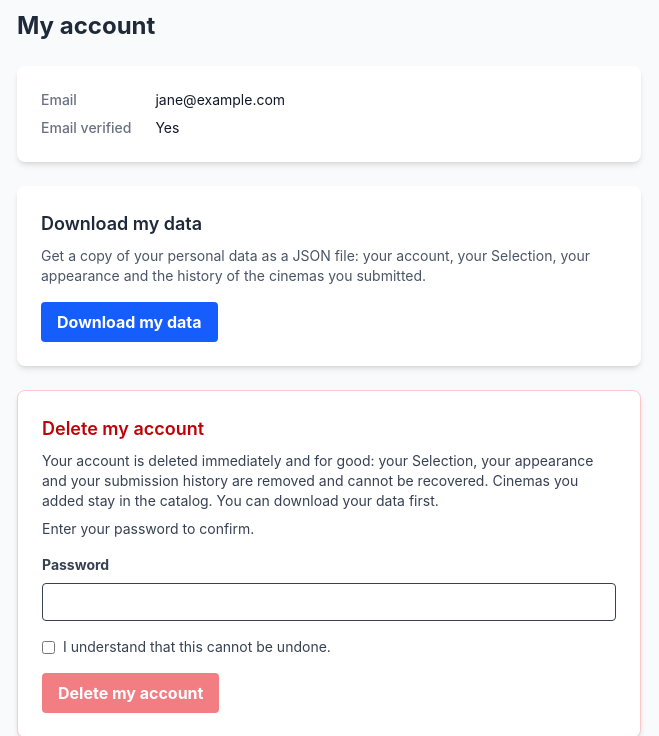
AccountPage › shows the server error on a wrong password and stays signed in
In the password field labelled "Password": (329, 602) x1=42 y1=583 x2=616 y2=621, type "wrong"
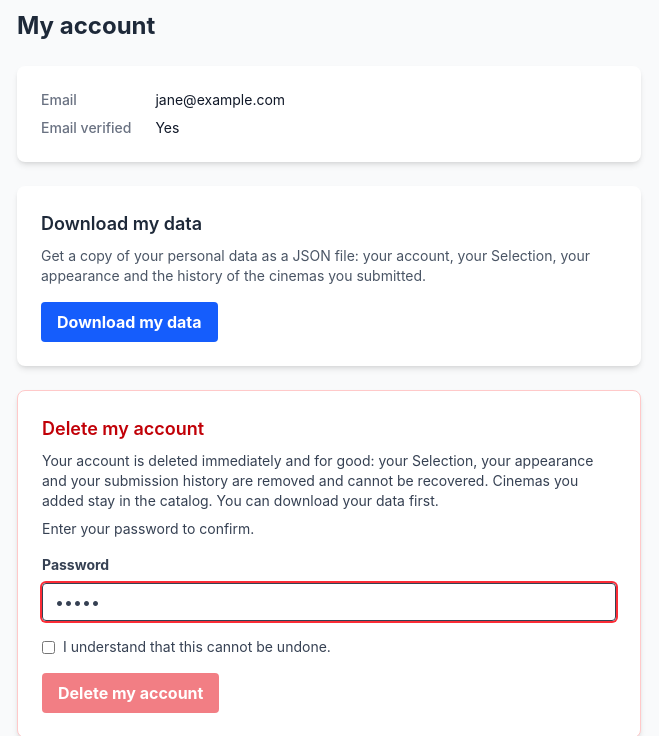
Click the checkbox with test id "delete-account-confirm": (48, 648) x1=42 y1=641 x2=55 y2=654
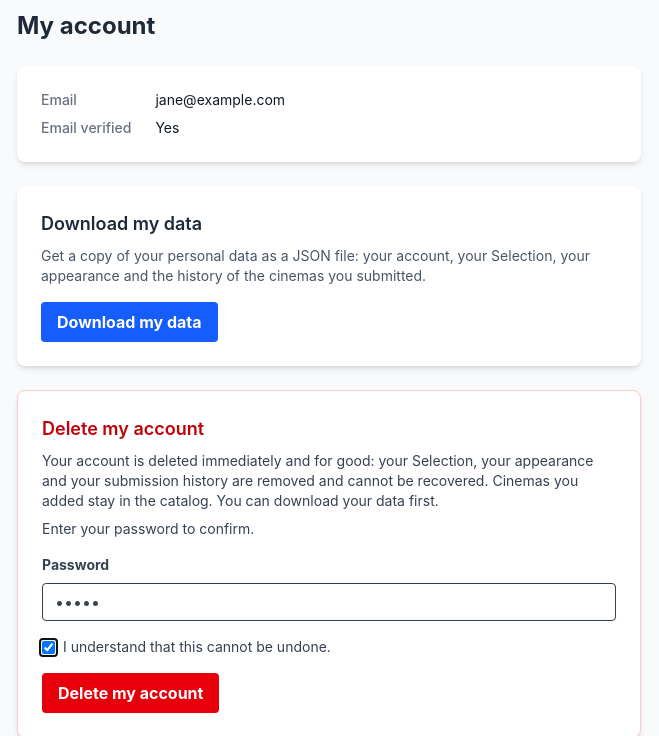
Click the button with test id "delete-account-submit": (131, 693) x1=42 y1=673 x2=219 y2=713
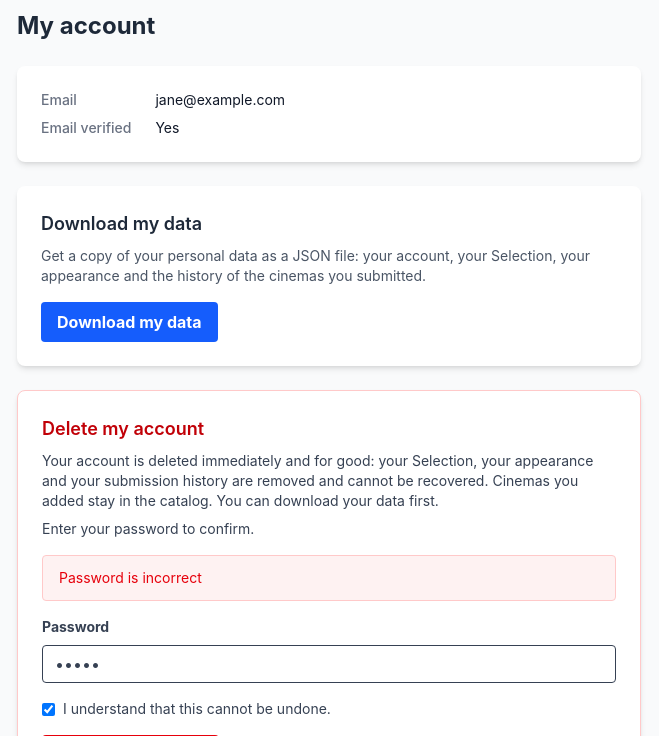
Expected: the message with test id "delete-account-error" reads "Password is incorrect", x1=59 y1=569 x2=202 y2=586
